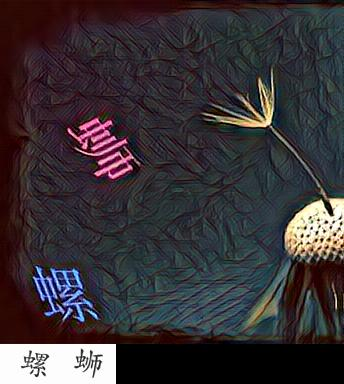character: (62, 112, 144, 183), (29, 262, 108, 328)
